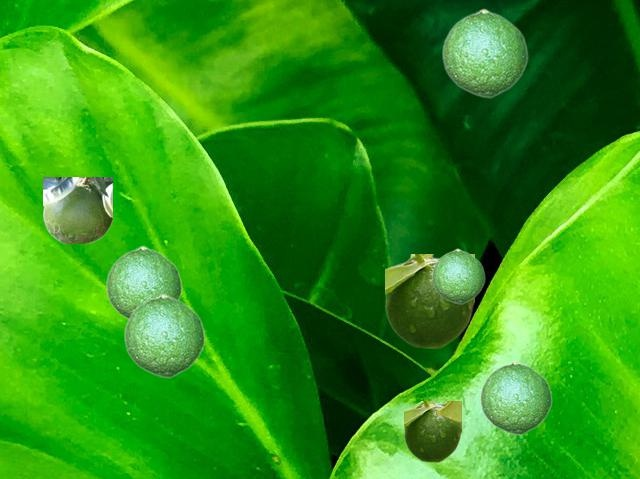dalandan: (385, 254, 473, 347), (441, 8, 527, 97), (123, 293, 204, 377), (105, 245, 181, 319), (479, 360, 551, 434), (43, 177, 111, 242), (404, 401, 460, 461), (431, 248, 484, 303)
